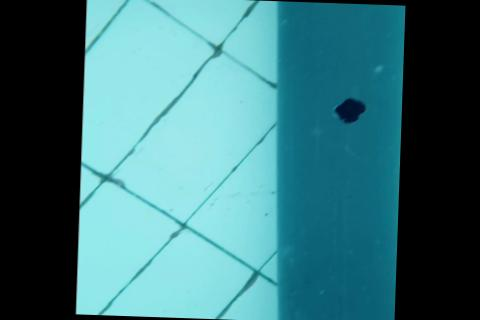kebocoran: (330, 97, 367, 126)
